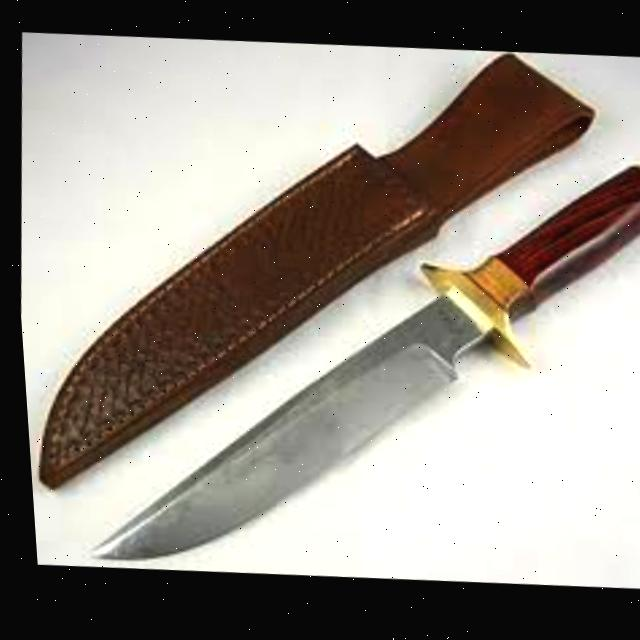Knife: (91, 122, 640, 606)
